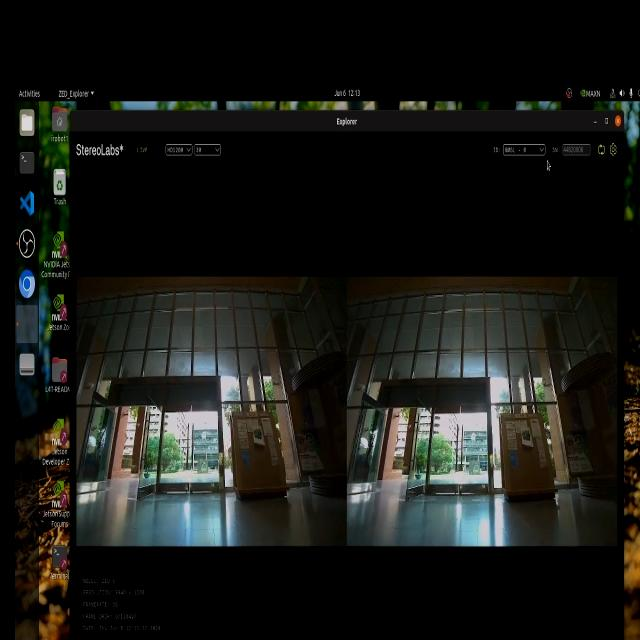green: (520, 423, 538, 449), (248, 424, 262, 442)
